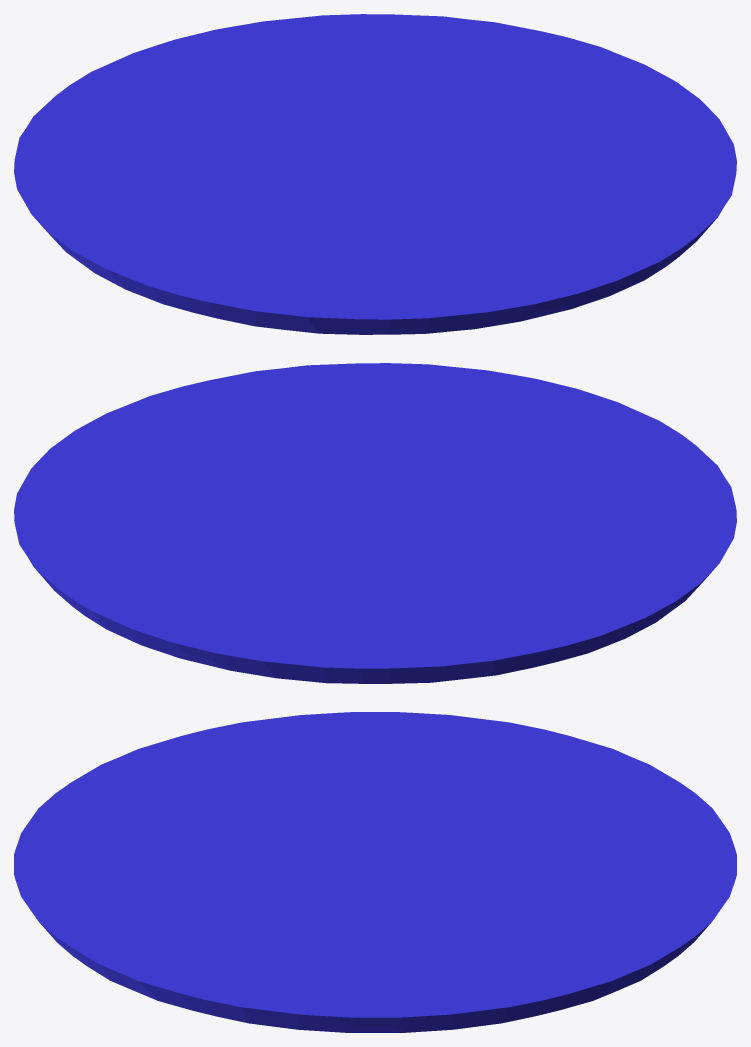
Rendered from roundTable.fbx.
The picture shows the model from 3 angles, top to bottom: view 1: azimuth 30°, elevation 25°; view 2: azimuth 150°, elevation 25°; view 3: azimuth 270°, elevation 25°; orthographic projection.
Visible parts, largest first — view 1: Siena Table; view 2: Siena Table; view 3: Siena Table.
Boxes of the visible parts, x1,y1,x2,y2 form: Siena Table: [14, 14, 736, 334]; Siena Table: [14, 363, 736, 683]; Siena Table: [14, 712, 736, 1032].
Size of the model in its own units: 110 by 4.1 by 110.
